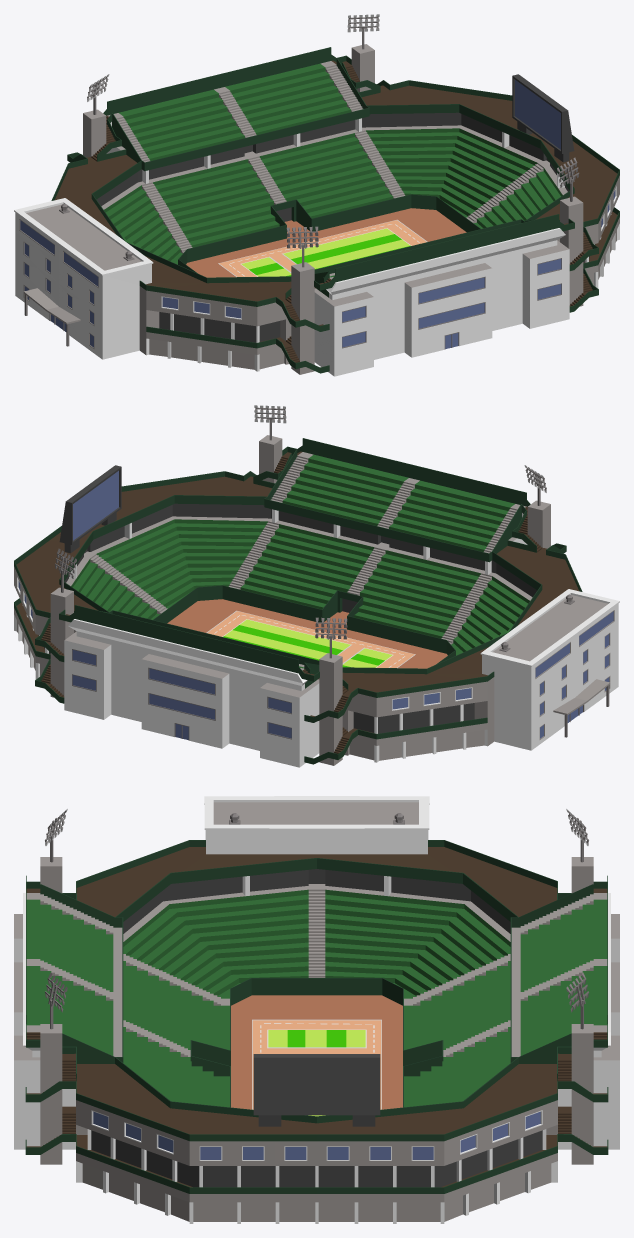
The model's file is fix.fbx.
3 views of the same model, one above another, from view 1: azimuth 30°, elevation 25°; view 2: azimuth 150°, elevation 25°; view 3: azimuth 270°, elevation 25° (orthographic). The views are drawn at different scales.
Visible parts, largest first — view 1: polySurface137, polySurface136, polySurface5, polySurface4, polySurface3, polySurface9, polySurface8; view 2: polySurface137, polySurface136, polySurface5, polySurface9, polySurface8, polySurface4, polySurface3; view 3: polySurface137, polySurface136, polySurface5, polySurface3, polySurface8, polySurface4, polySurface9.
Part boxes in pixels (x1,y1,x2,y2): polySurface137: (14, 47, 619, 376); polySurface136: (186, 208, 466, 277); polySurface5: (512, 74, 574, 162); polySurface4: (291, 262, 314, 374); polySurface3: (560, 196, 583, 306); polySurface9: (83, 109, 106, 157); polySurface8: (351, 44, 374, 92); polySurface137: (14, 438, 619, 767); polySurface136: (167, 599, 447, 668); polySurface5: (59, 465, 121, 553); polySurface9: (319, 653, 342, 765); polySurface8: (50, 587, 73, 697); polySurface4: (527, 500, 550, 548); polySurface3: (259, 435, 282, 483); polySurface137: (14, 796, 619, 1223); polySurface136: (231, 995, 402, 1116); polySurface5: (253, 1054, 380, 1126); polySurface3: (40, 1024, 62, 1164); polySurface8: (571, 1024, 593, 1164); polySurface4: (40, 857, 62, 893); polySurface9: (571, 857, 593, 893).
Size of the model in its own units: 8477 by 2159 by 6649.
